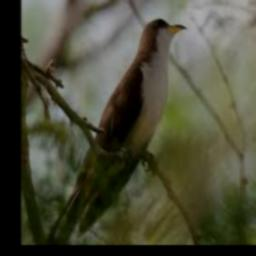Cuckoo: (45, 20, 187, 245)
